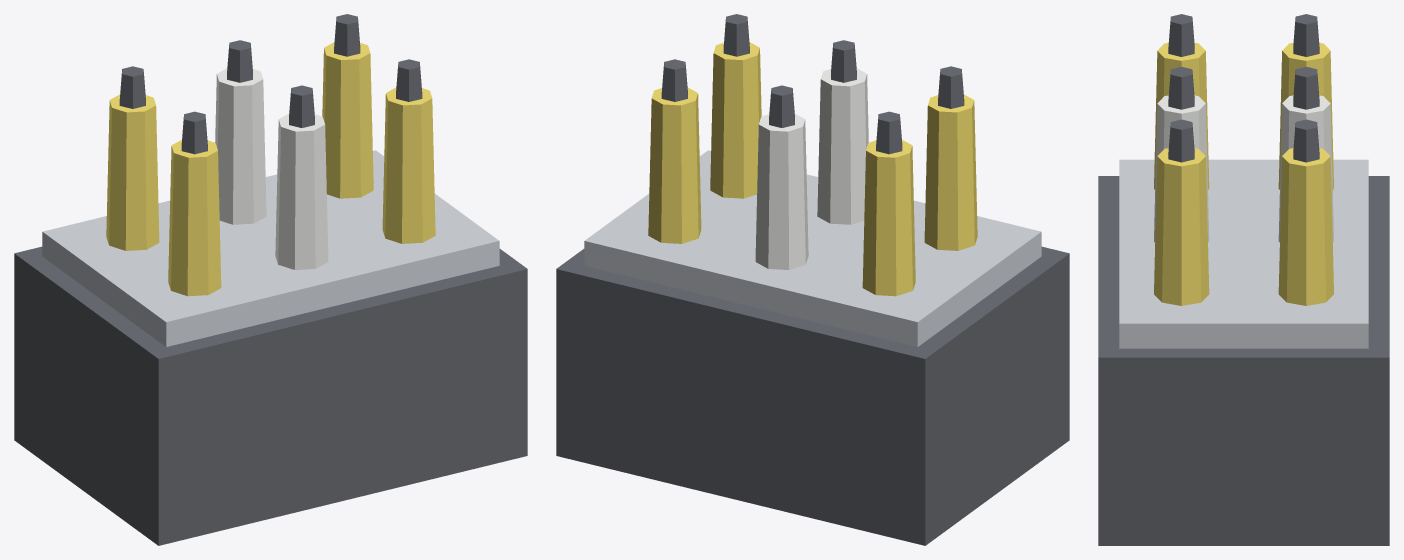
Rendered from velodrome-and-track-cycling-drinks-bottle-crate-f5c274b0__38026.glb.
The picture shows the model from 3 angles, left to right: view 1: azimuth 30°, elevation 25°; view 2: azimuth 150°, elevation 25°; view 3: azimuth 270°, elevation 25°; orthographic projection.
Visible parts, largest first — view 1: drinks-bottle-crate-charcoal, drinks-bottle-crate-steel, drinks-bottle-crate-canary, drinks-bottle-crate-chalk; view 2: drinks-bottle-crate-charcoal, drinks-bottle-crate-steel, drinks-bottle-crate-canary, drinks-bottle-crate-chalk; view 3: drinks-bottle-crate-charcoal, drinks-bottle-crate-steel, drinks-bottle-crate-canary, drinks-bottle-crate-chalk.
Boxes of the visible parts, x1=… form: drinks-bottle-crate-charcoal: x1=14, y1=14, x2=527, y2=545; drinks-bottle-crate-steel: x1=42, y1=150, x2=499, y2=346; drinks-bottle-crate-canary: x1=106, y1=42, x2=435, y2=296; drinks-bottle-crate-chalk: x1=215, y1=68, x2=328, y2=269; drinks-bottle-crate-charcoal: x1=556, y1=14, x2=1069, y2=545; drinks-bottle-crate-steel: x1=584, y1=150, x2=1041, y2=346; drinks-bottle-crate-canary: x1=648, y1=42, x2=977, y2=296; drinks-bottle-crate-chalk: x1=755, y1=68, x2=868, y2=269; drinks-bottle-crate-charcoal: x1=1098, y1=14, x2=1389, y2=545; drinks-bottle-crate-steel: x1=1119, y1=159, x2=1368, y2=348; drinks-bottle-crate-canary: x1=1154, y1=42, x2=1333, y2=305; drinks-bottle-crate-chalk: x1=1154, y1=95, x2=1333, y2=242.
Bounding box in the file's own units: 0.62 × 0.61 × 0.42.
